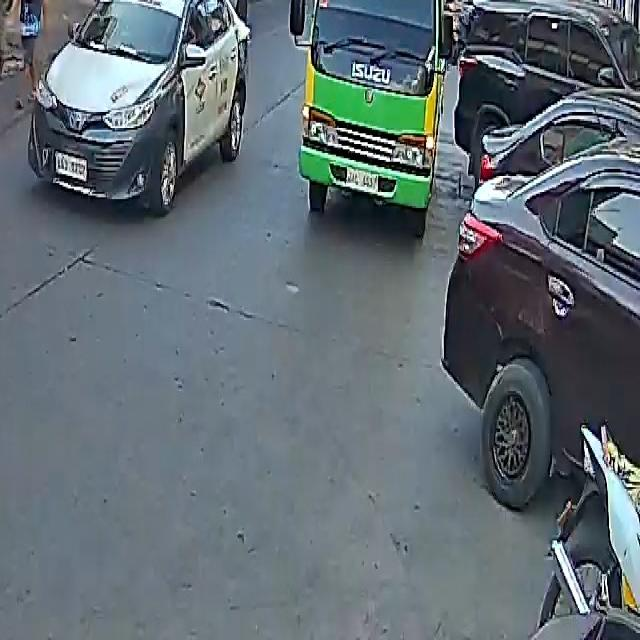car: (441, 149, 640, 514), (21, 0, 250, 215), (452, 0, 640, 176), (149, 0, 248, 16)
